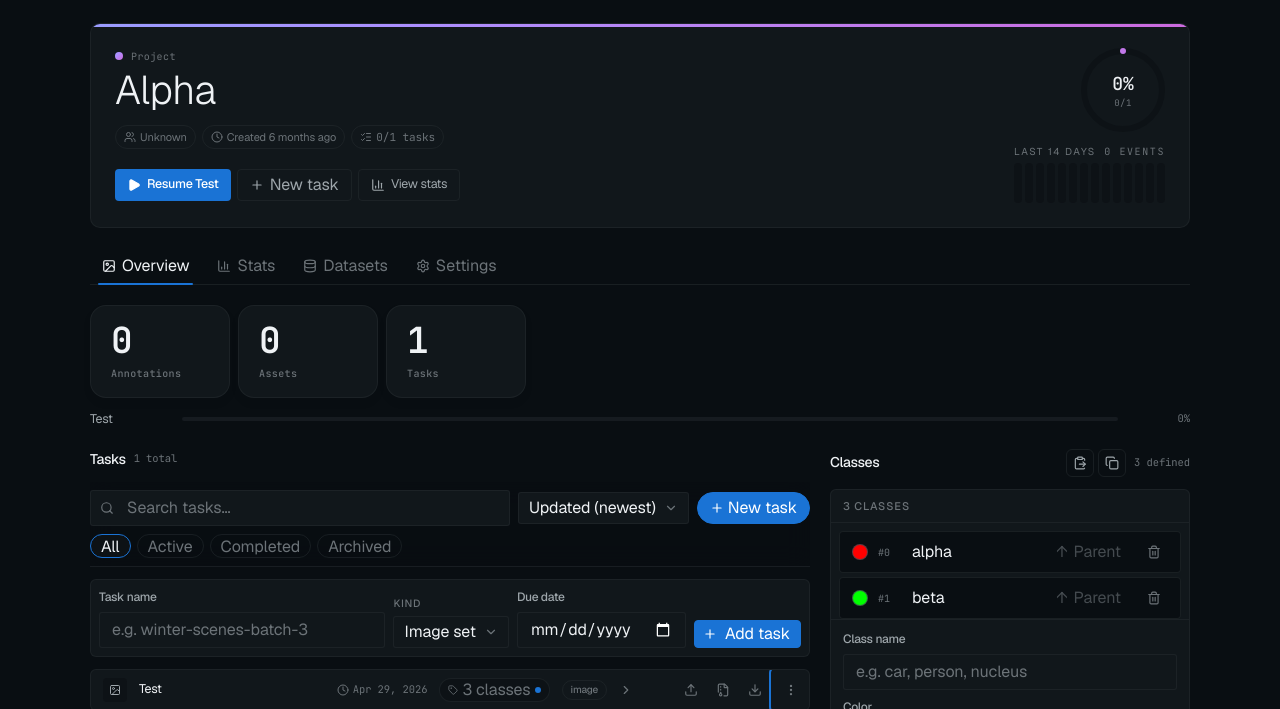
Test: ProjectDetailPage — Duplicate task (v3.1 Bug 2) › opens a name dialog pre-filled with '<name> (copy)' when Duplicate is clicked
Press Enter in the button with test id "project-detail-task-menu-trigger-t1", box [773,670,809,708]
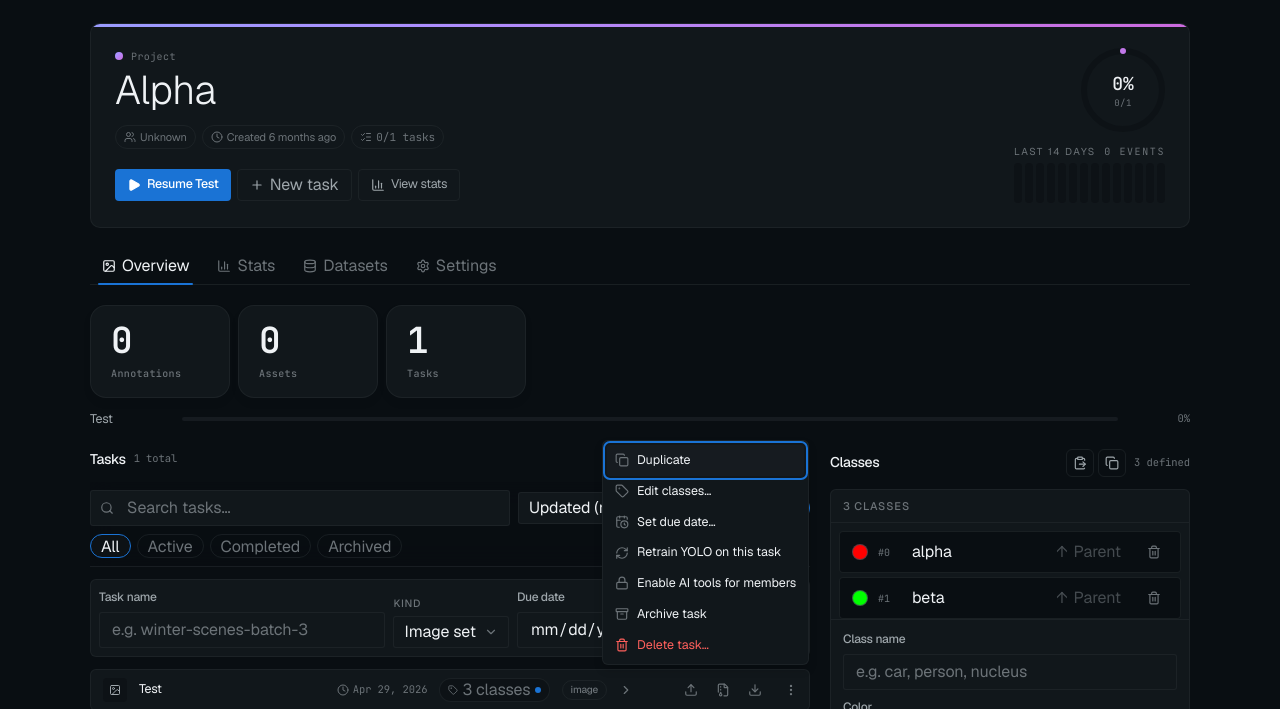
Click the menu item with test id "project-detail-task-duplicate-t1": (706,460) [607,445,804,476]
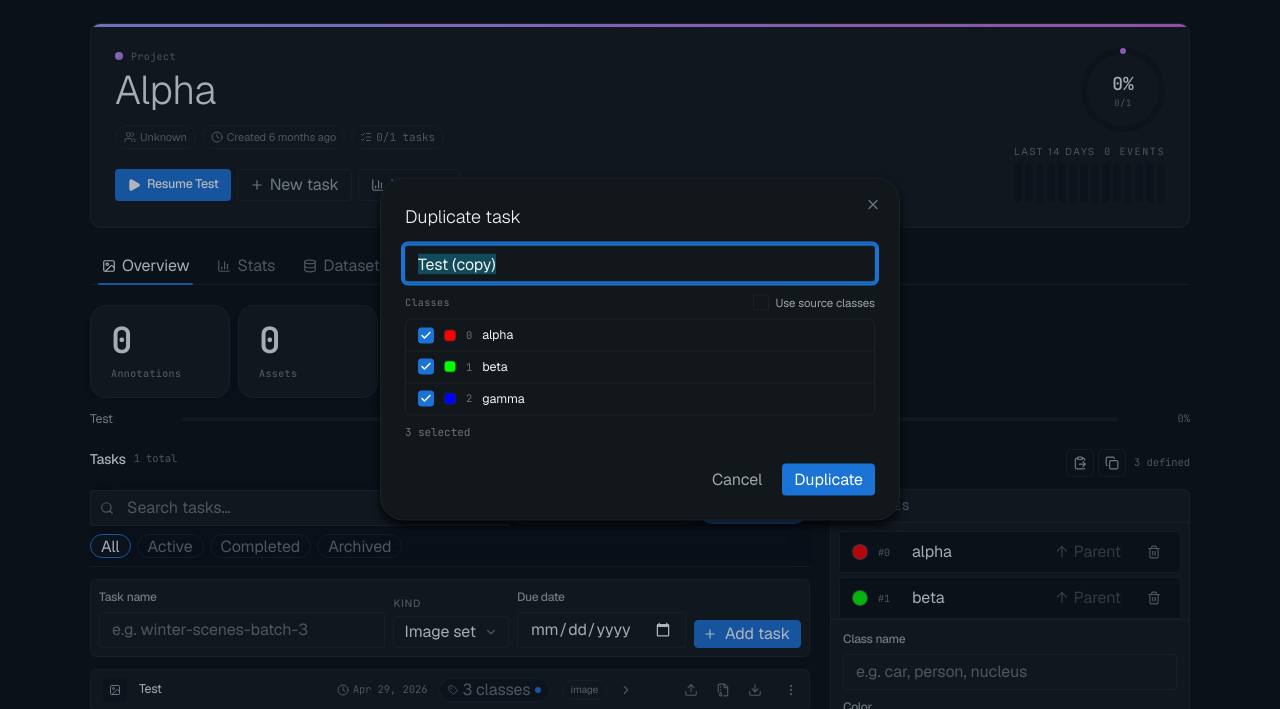
Check: the field with test id "duplicate-task-input" holds "Test (copy)", box [405,246,875,282]
